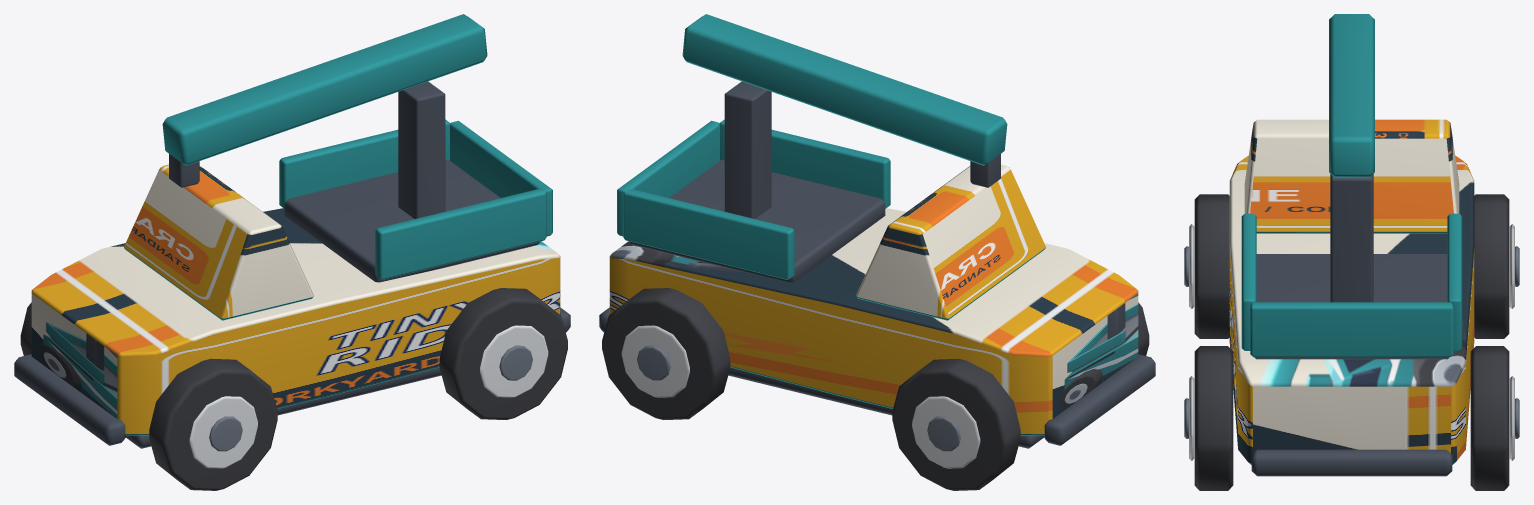
3 renders of one model, left to right at view 1: azimuth 30°, elevation 25°; view 2: azimuth 150°, elevation 25°; view 3: azimuth 270°, elevation 25°, orthographic. The views are drawn at different scales.
Parts seen in each view (by area): view 1: WY-04_connected_shell, WY-04_cabin, boom, Tire, Tire.002, cargo side, cargo floor, boom pillar, cargo side.001, cargo tail, front bumper, Rim (+5 smaller); view 2: WY-04_connected_shell, WY-04_cabin, boom, Tire.001, Tire.003, cargo side.001, cargo floor, boom pillar, cargo side, cargo tail, front bumper, Rim.001 (+5 smaller); view 3: WY-04_connected_shell, WY-04_cabin, cargo tail, cargo floor, boom, Tire.002, Tire.003, rear bumper, boom pillar, Tire, Tire.001, cargo side (+5 smaller).
Part boxes in pixels (x1,y1,x2,y2): WY-04_connected_shell: (31,208,560,435); WY-04_cabin: (124,164,313,320); boom: (162,14,487,165); Tire: (149,358,277,490); Tire.002: (439,288,567,419); cargo side: (375,188,546,279); cargo floor: (284,159,540,282); boom pillar: (398,81,445,218); cargo side.001: (279,119,450,208); cargo tail: (450,120,552,236); front bumper: (14,354,125,445); Rim: (189,396,257,468); WY-04_connected_shell: (609,208,1138,435); WY-04_cabin: (856,164,1045,320); boom: (682,14,1007,165); Tire.001: (892,358,1020,490); Tire.003: (602,288,730,419); cargo side.001: (623,188,794,279); cargo floor: (629,159,885,282); boom pillar: (724,81,771,218); cargo side: (719,119,890,208); cargo tail: (617,120,719,236); front bumper: (1044,354,1155,445); Rim.001: (912,396,980,468); WY-04_connected_shell: (1229,155,1474,464); WY-04_cabin: (1244,119,1459,233); cargo tail: (1250,302,1453,357); cargo floor: (1254,254,1449,359); boom: (1329,14,1374,177); Tire.002: (1194,346,1233,490); Tire.003: (1470,346,1509,490); rear bumper: (1251,449,1452,476); boom pillar: (1330,174,1373,302); Tire: (1194,194,1229,338); Tire.001: (1474,194,1509,338); cargo side: (1241,213,1256,350).
Bounding box in the file's own units: 390 × 271 × 226.
